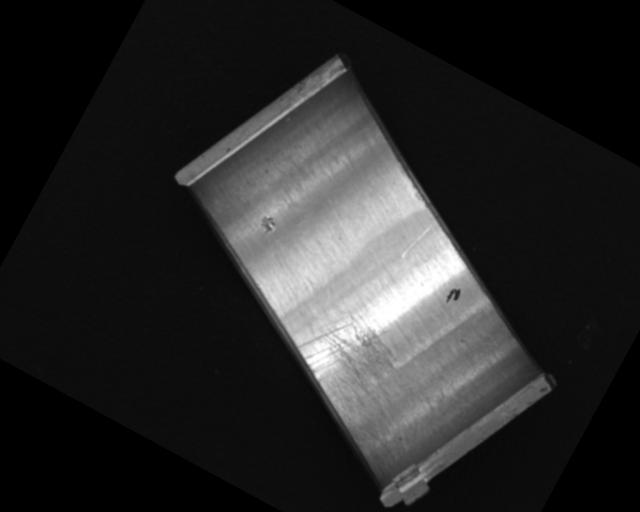blot: (444, 284, 464, 307)
bruise: (255, 213, 279, 239)
nick: (400, 216, 434, 264)
scratch: (269, 295, 423, 454)
